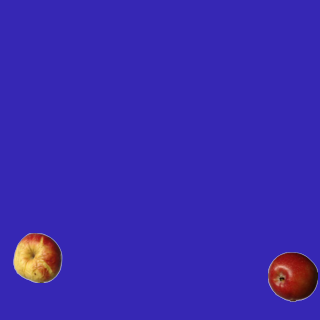Apple Braeburn: (267, 251, 317, 301)
Apple Red Yellow 1: (12, 232, 62, 282)
